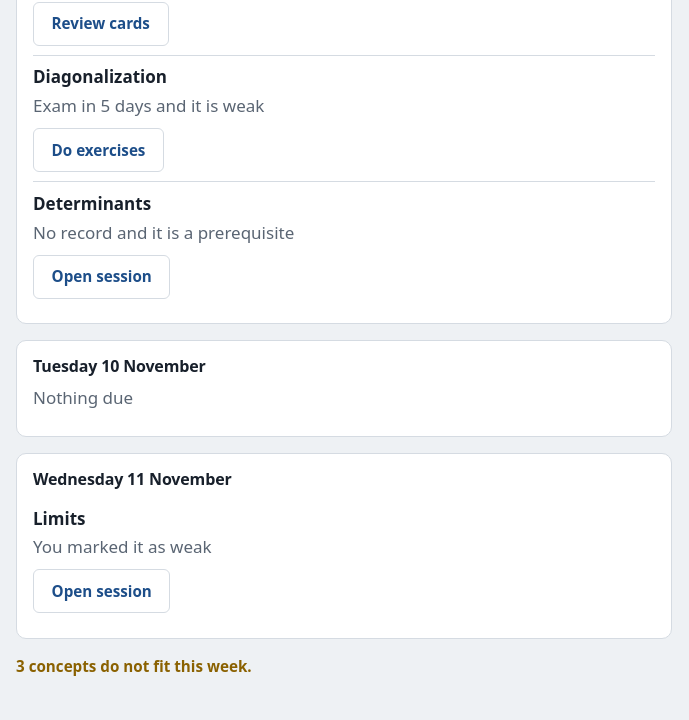
Test: Week screen › if the concept has no subject it does not call the Hub and explains why
(page scrolled)
Expected: the list item "Limits" is shown, [33, 507, 86, 530]
Click the button "Open session" below "Limits" at (102, 592), box [33, 570, 170, 614]
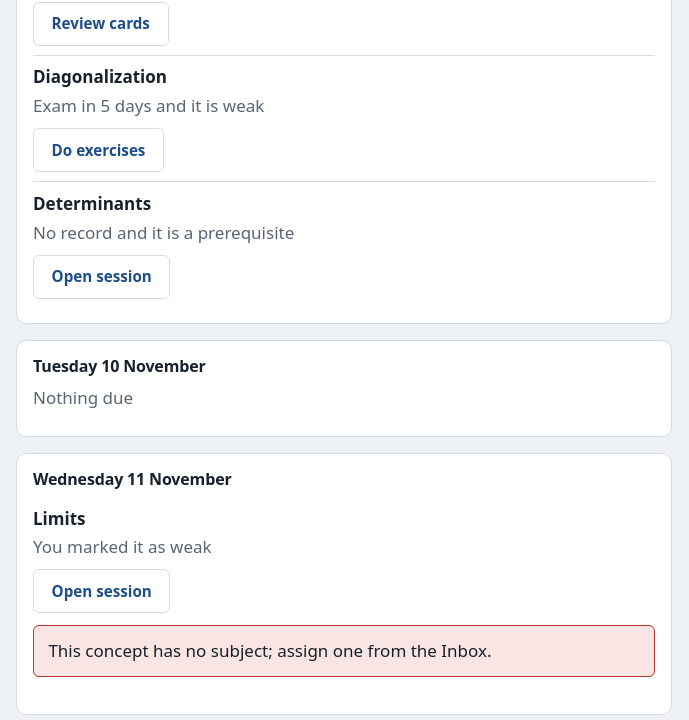
Result: the message shows "subject" at [48, 640, 492, 662]
